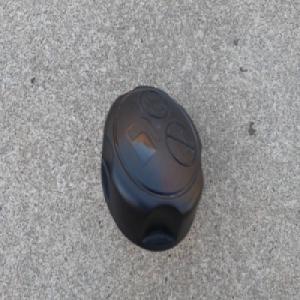FuelCap: (100, 81, 205, 252)
